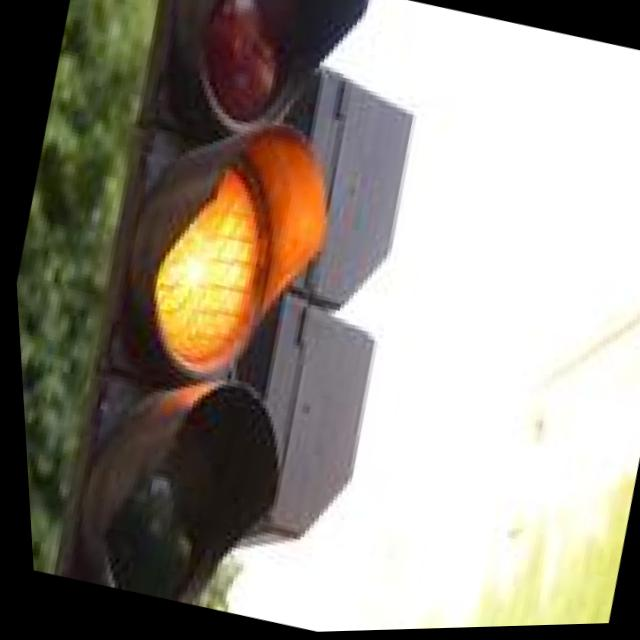yellow_light: (67, 100, 350, 394)
